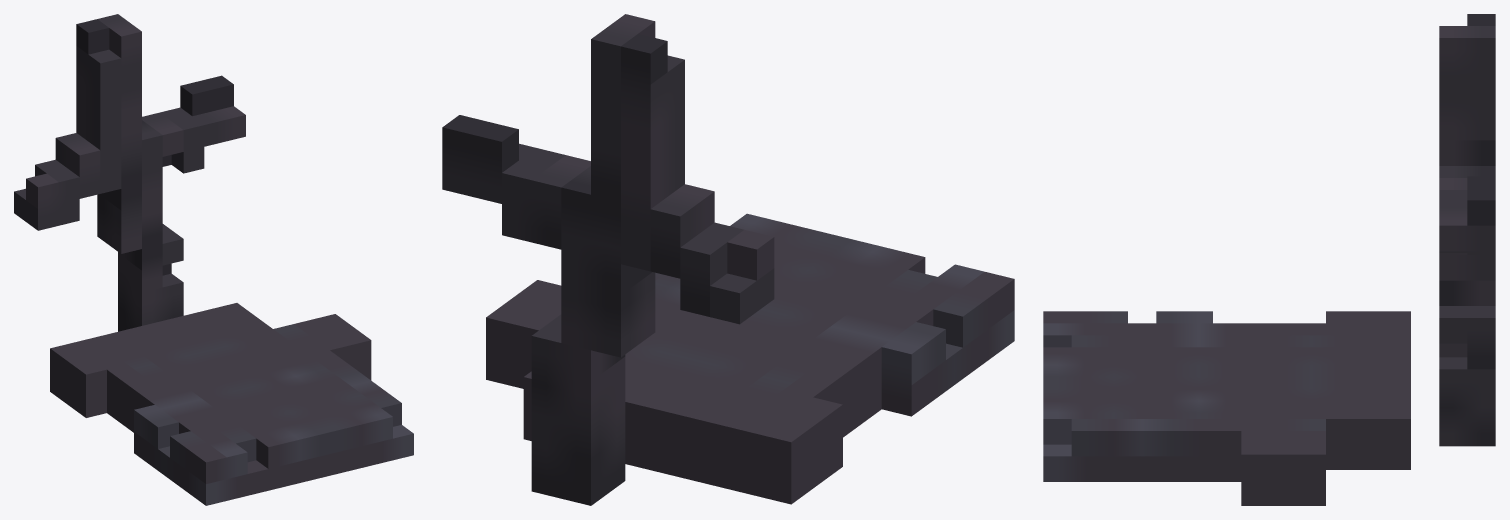
File: Tomb-0.fbx
The picture shows the model from 3 angles, left to right: view 1: azimuth 30°, elevation 25°; view 2: azimuth 150°, elevation 25°; view 3: azimuth 270°, elevation 25°; orthographic projection. The views are drawn at different scales.
Visible parts, largest first — view 1: Tomb-0; view 2: Tomb-0; view 3: Tomb-0.
Part boxes in pixels (x1=…): Tomb-0: x1=14, y1=14, x2=413, y2=505; Tomb-0: x1=442, y1=14, x2=1014, y2=505; Tomb-0: x1=1043, y1=14, x2=1495, y2=505.
Bounding box in the file's own units: 60 × 75 × 80.
